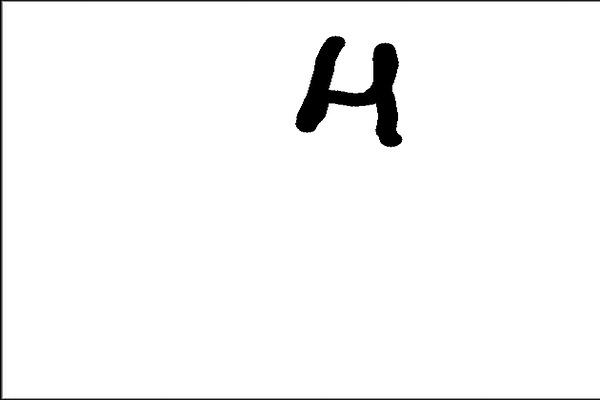H: (287, 27, 415, 154)
